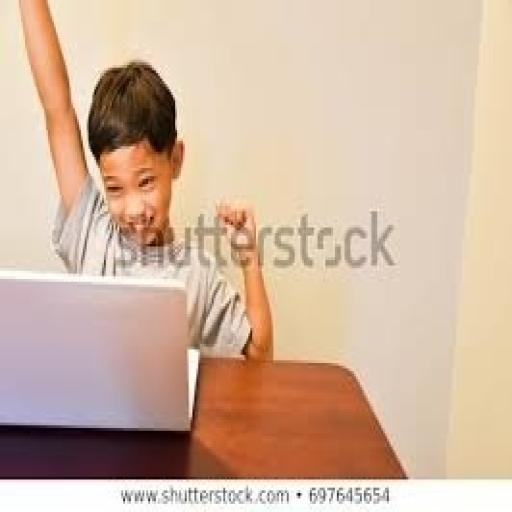using_laptop: (0, 266, 200, 434)
